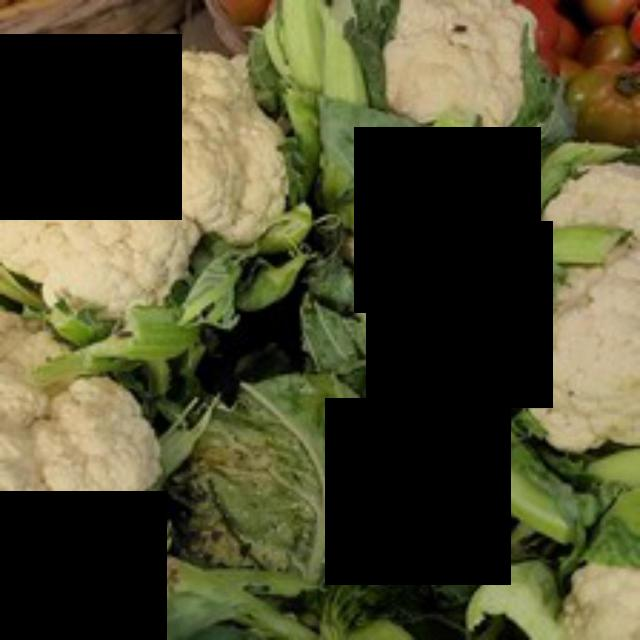cauliflower: (0, 32, 301, 364)
